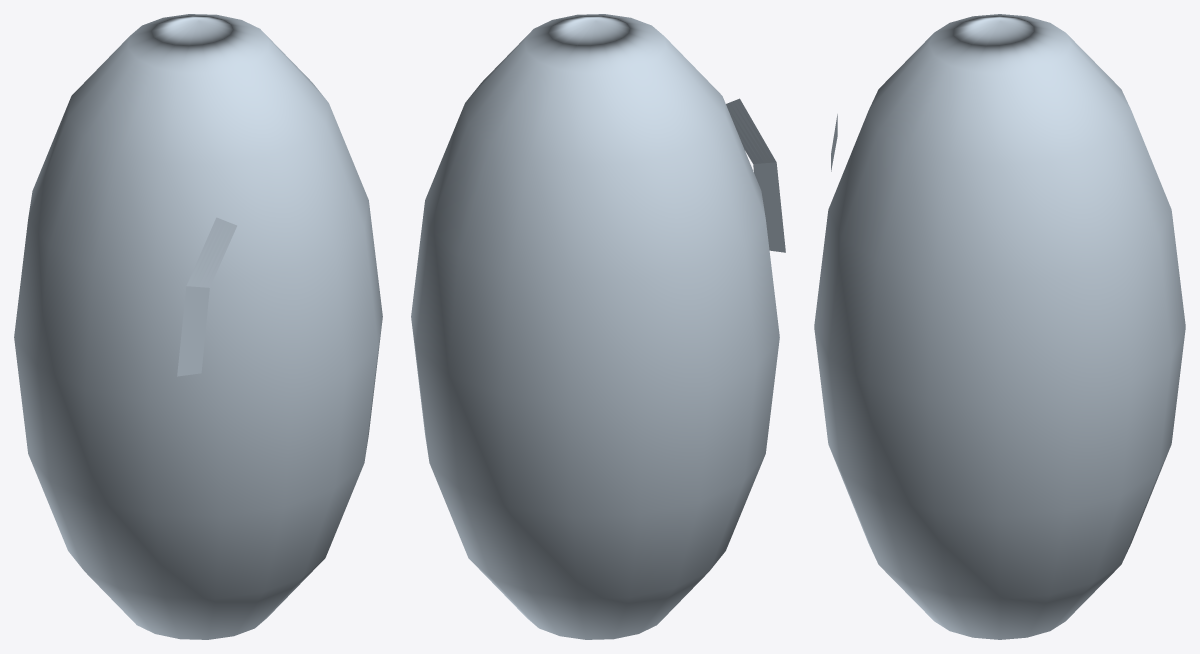
The model's file is SummonAppearance_Hydro_SummonDroplet.fbx.
The picture shows the model from 3 angles, left to right: view 1: azimuth 30°, elevation 25°; view 2: azimuth 150°, elevation 25°; view 3: azimuth 270°, elevation 25°; orthographic projection.
Visible parts, largest first — view 1: PART_SummonWaterDroplet, PART_SummonDropSmallWhiteHighlight; view 2: PART_SummonWaterDroplet, PART_SummonDropSmallWhiteHighlight; view 3: PART_SummonWaterDroplet.
Part boxes in pixels (x1,y1,x2,y2): PART_SummonWaterDroplet: (14,14,382,639); PART_SummonDropSmallWhiteHighlight: (177,217,236,376); PART_SummonWaterDroplet: (411,14,779,639); PART_SummonDropSmallWhiteHighlight: (726,98,785,252); PART_SummonWaterDroplet: (814,14,1185,639).
Bounding box in the file's own units: 110 × 200 × 110.
